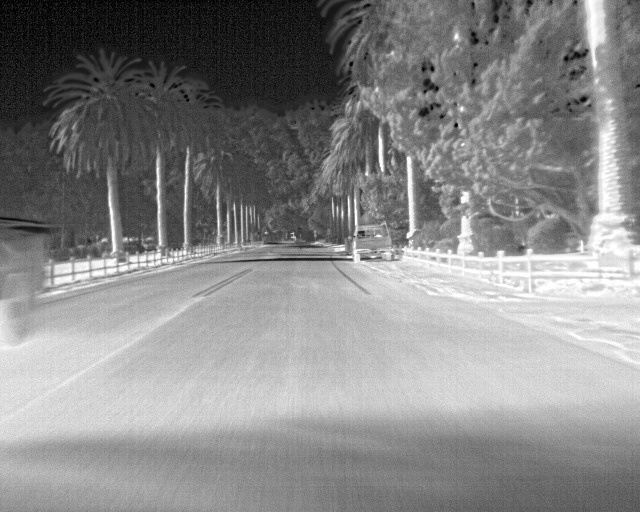car: (3, 216, 50, 343), (348, 221, 392, 269)
